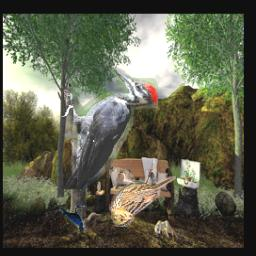Crow: (59, 206, 86, 231)
Sparrow: (110, 168, 177, 228)
Woodpecker: (62, 69, 159, 190)
